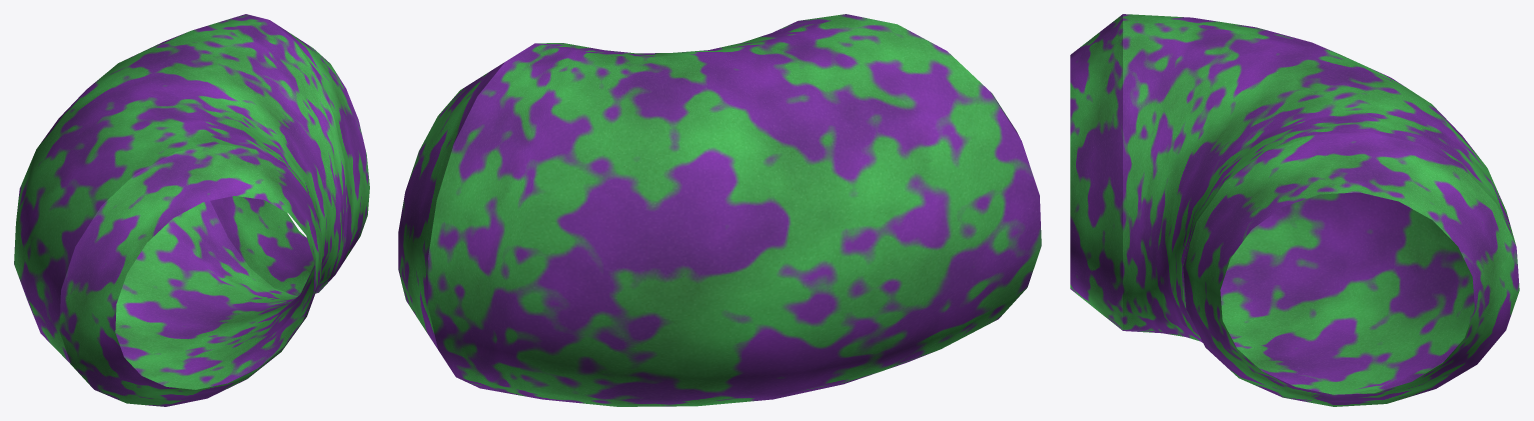
Rendered from bodyCurve.fbx.
The picture shows the model from 3 angles, left to right: view 1: azimuth 30°, elevation 25°; view 2: azimuth 150°, elevation 25°; view 3: azimuth 270°, elevation 25°; orthographic projection. The views are drawn at different scales.
Visible parts, largest first — view 1: bodyCurve; view 2: bodyCurve; view 3: bodyCurve.
Boxes of the visible parts, x1,y1,x2,y2 form: bodyCurve: (14,14,369,406); bodyCurve: (398,14,1041,406); bodyCurve: (1070,14,1519,406).
Bounding box in the file's own units: 1.77 × 1.19 × 1.72.
1 material, 1 textured.
